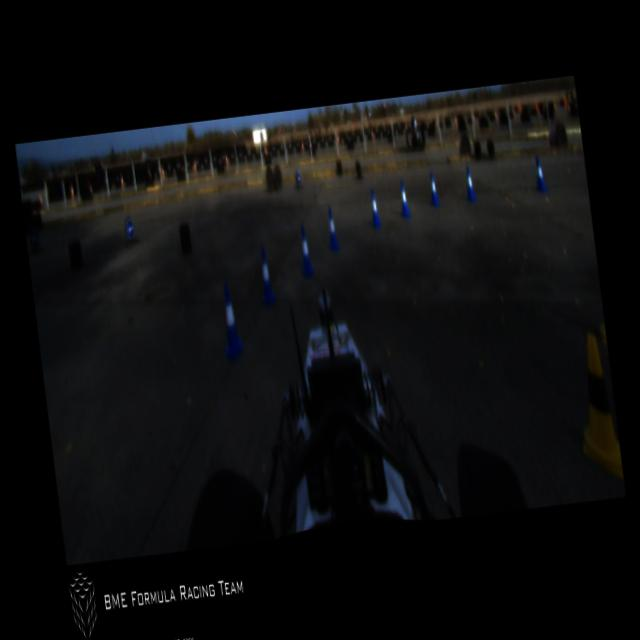blue_cone: (215, 279, 247, 361), (254, 244, 276, 306), (296, 224, 314, 275), (324, 206, 339, 250), (532, 154, 546, 192), (367, 188, 381, 226), (462, 166, 477, 200), (426, 171, 440, 206), (396, 180, 409, 216)
yellow_cone: (568, 330, 623, 484)
